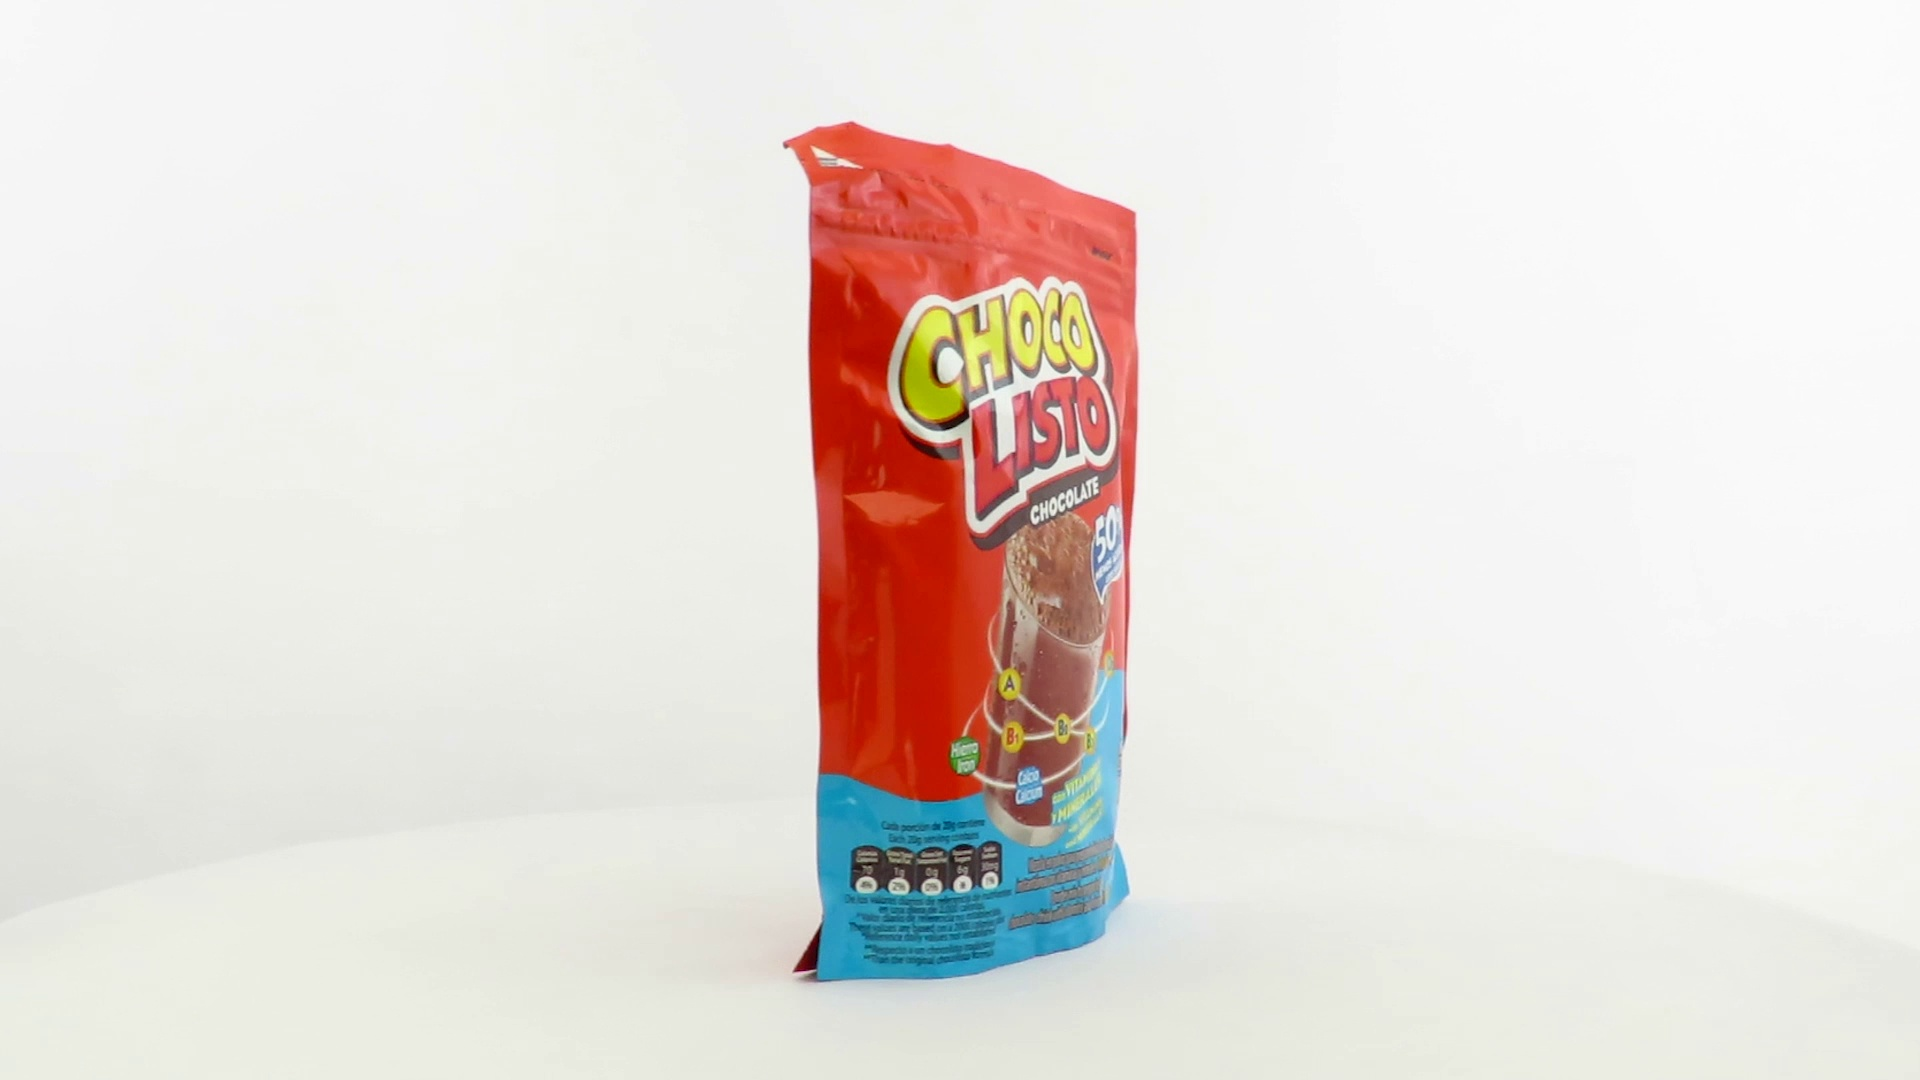COL0170104DYP20000: (778, 116, 1145, 989)
